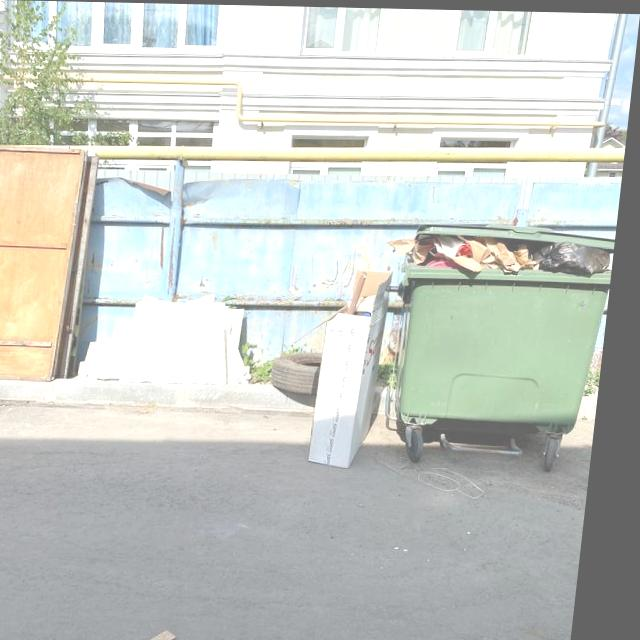Trash_Can_Full: (399, 221, 621, 426)
